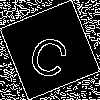C: (25, 25, 76, 81)
